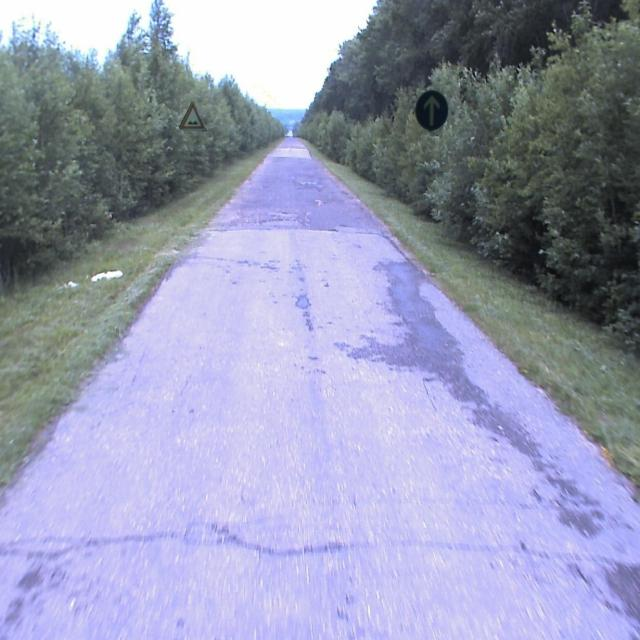road: (0, 137, 639, 639)
